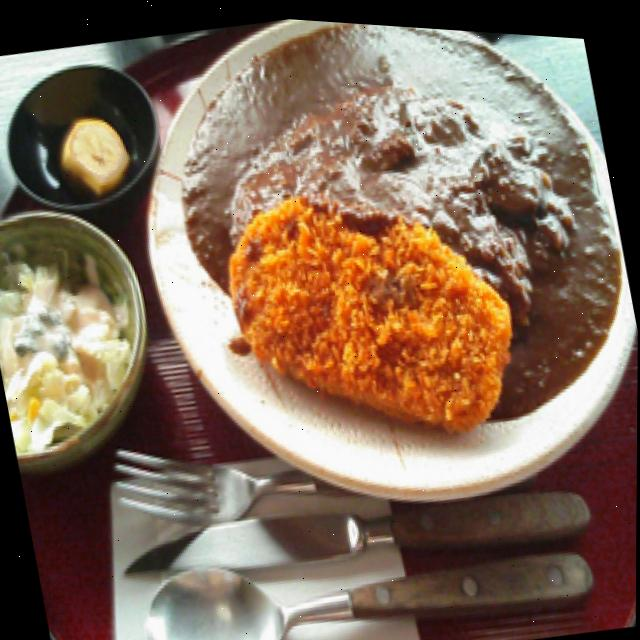猪肉菜式: (98, 5, 640, 558)
